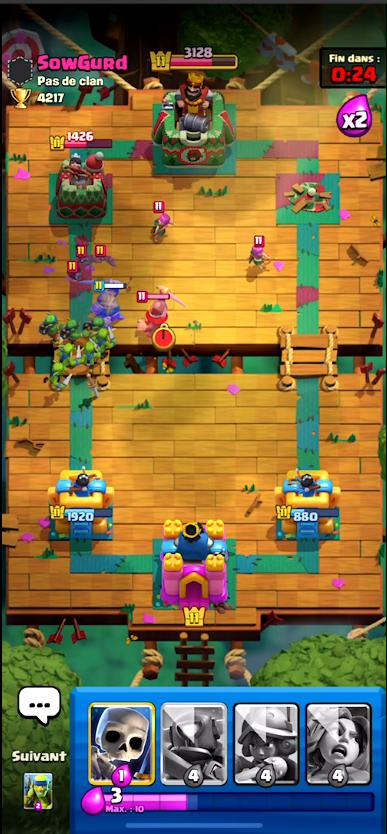archere: (246, 235, 268, 269), (152, 201, 172, 236)
bat: (95, 245, 113, 268), (64, 263, 85, 282), (75, 245, 92, 265)
chevalier: (136, 288, 183, 325), (92, 281, 126, 318)
gobelin: (94, 326, 115, 356), (81, 337, 101, 367), (49, 363, 69, 390), (59, 344, 80, 366)
gobelin_lances: (64, 317, 81, 340), (40, 313, 59, 331), (85, 315, 105, 332)
